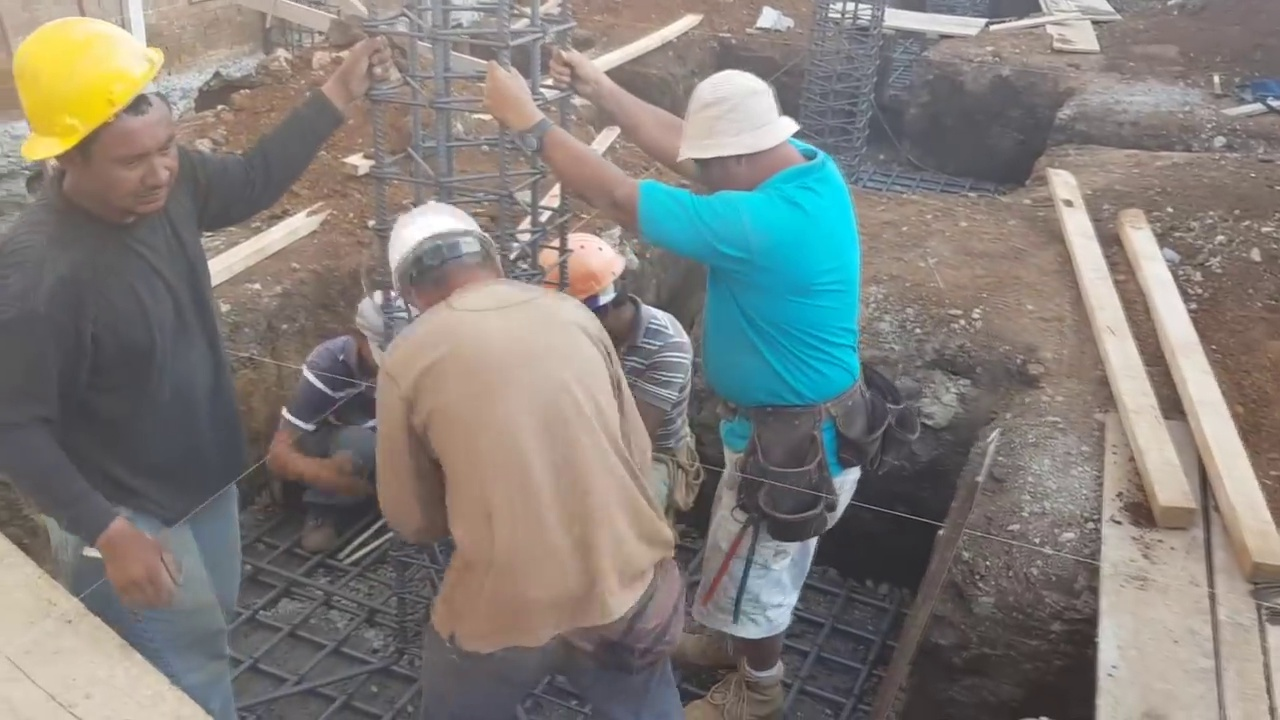helmet: (4, 15, 169, 165), (384, 199, 492, 306), (542, 227, 623, 307)
helmet-off: (672, 69, 807, 196), (345, 289, 424, 352)
helmet-on: (4, 5, 169, 230), (387, 196, 509, 329), (543, 226, 640, 343)
person: (490, 48, 871, 655), (5, 5, 325, 717), (371, 196, 677, 717), (543, 225, 694, 529), (277, 286, 430, 539)
